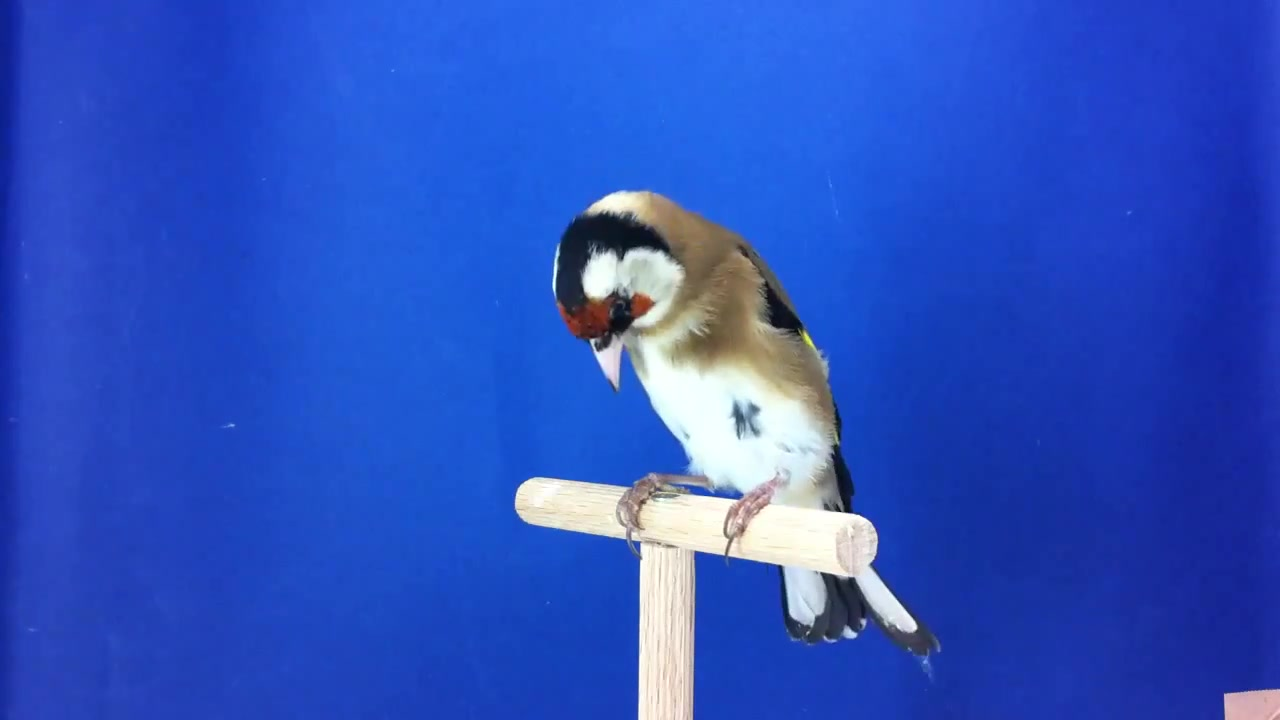bird: (553, 193, 941, 666)
